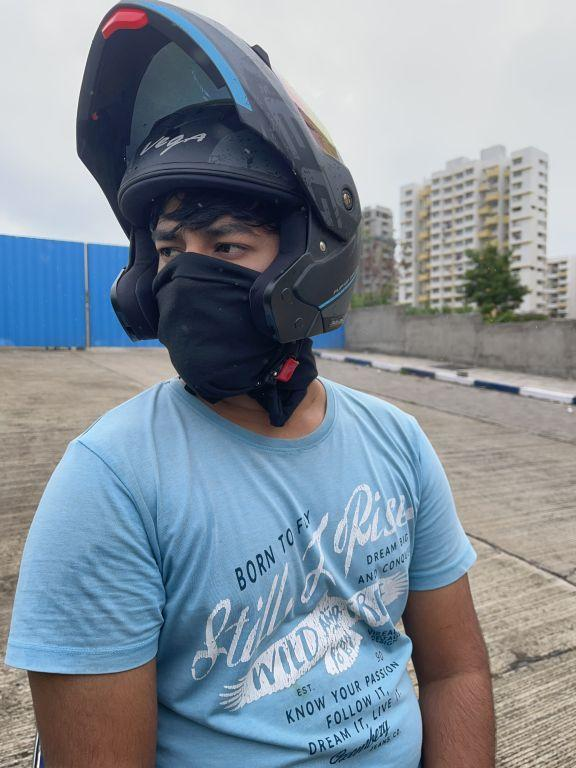helmet: (59, 0, 373, 403)
